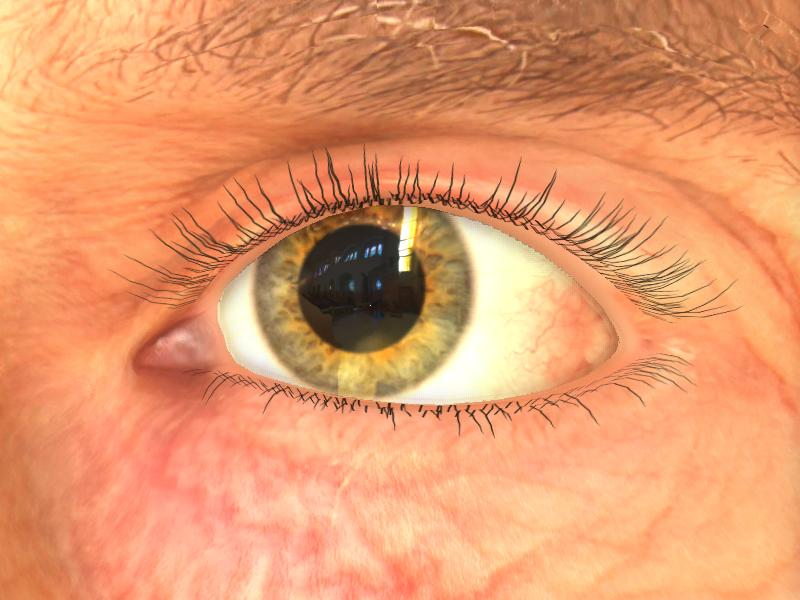eye: (255, 205, 474, 403)
